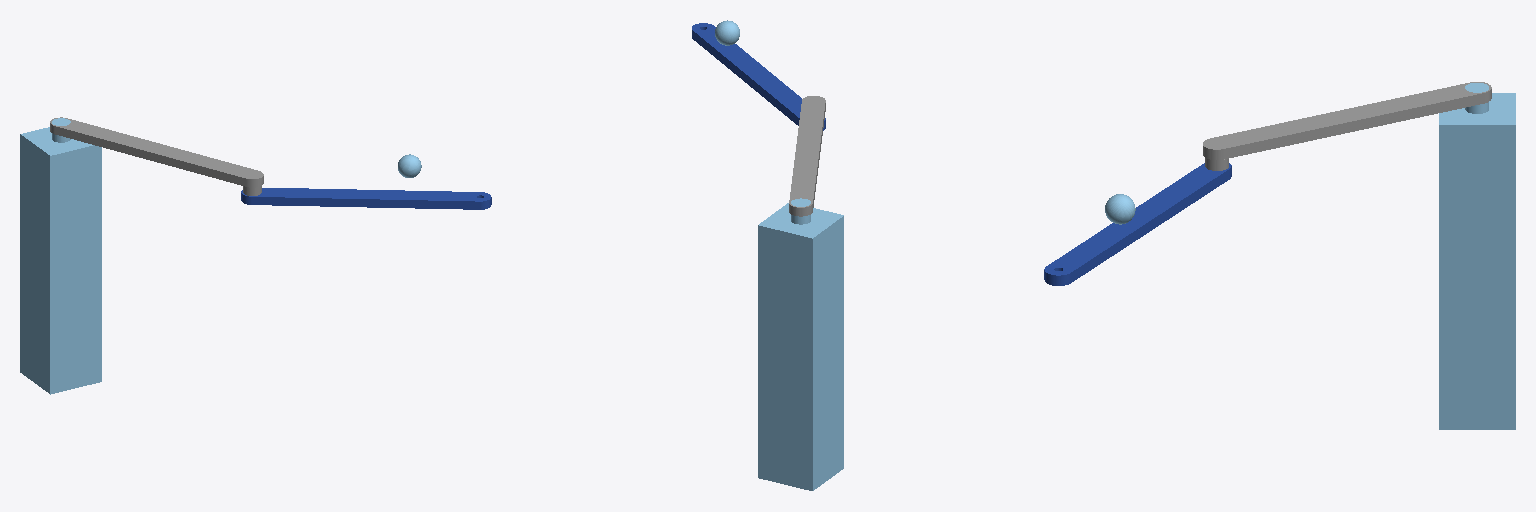
robot.urdf — cup_manipulator:
<?xml version="1.0" ?>
<!-- Generated using onshape-to-robot -->
<!-- Onshape https://cad.onshape.com/documents/02830e503a1c2626d58e0780/w/62db7934caa01effe231f1a9/e/403997dc9b8865e58fc05acd -->
<robot name="cup_manipulator">
  <!-- Link base_mount_manipulator -->
  <link name="base_mount_manipulator">
    <inertial>
      <origin xyz="-1.28866e-19 -3.07959e-17 0.553261" rpy="0 0 0"/>
      <mass value="542.696"/>
      <inertia ixx="58.2669" ixy="-1.00642e-16" ixz="4.30399e-16" iyy="58.2669" iyz="2.04245e-15" izz="5.62415"/>
    </inertial>
    <!-- Part base_mount_manipulator -->
    <visual>
      <origin xyz="0 -5.55112e-17 0" rpy="0 -0 0"/>
      <geometry>
        <mesh filename="package://assets/base_mount_manipulator.stl"/>
      </geometry>
      <material name="base_mount_manipulator_material">
        <color rgba="0.615686 0.811765 0.929412 1"/>
      </material>
    </visual>
    <collision>
      <origin xyz="0 -5.55112e-17 0" rpy="0 -0 0"/>
      <geometry>
        <mesh filename="package://assets/base_mount_manipulator.stl"/>
      </geometry>
    </collision>
  </link>
  <!-- Link link1 -->
  <link name="link1">
    <inertial>
      <origin xyz="-0.549225 -3.5583e-17 -0.0251674" rpy="0 0 0"/>
      <mass value="10.8153"/>
      <inertia ixx="0.0128988" ixy="5.51803e-17" ixz="-0.0266598" iyy="0.981141" iyz="-1.47991e-18" izz="0.983505"/>
    </inertial>
    <!-- Part link1 -->
    <visual>
      <origin xyz="6.16298e-33 -2.44929e-18 -1.21437" rpy="0 -0 5.55112e-17"/>
      <geometry>
        <mesh filename="package://assets/link1.stl"/>
      </geometry>
      <material name="link1_material">
        <color rgba="0.647059 0.647059 0.647059 1"/>
      </material>
    </visual>
    <collision>
      <origin xyz="6.16298e-33 -2.44929e-18 -1.21437" rpy="0 -0 5.55112e-17"/>
      <geometry>
        <mesh filename="package://assets/link1.stl"/>
      </geometry>
    </collision>
  </link>
  <!-- Link link2 -->
  <link name="link2">
    <inertial>
      <origin xyz="-0.499172 -1.4477e-16 -0.0190625" rpy="0 0 0"/>
      <mass value="9.62243"/>
      <inertia ixx="0.00834558" ixy="-4.16147e-17" ixz="0" iyy="0.75801" iyz="0" izz="0.764024"/>
    </inertial>
    <!-- Part link2 -->
    <visual>
      <origin xyz="0.953 -5.55112e-17 1.05812" rpy="3.14159 -0 5.55112e-17"/>
      <geometry>
        <mesh filename="package://assets/link2.stl"/>
      </geometry>
      <material name="link2_material">
        <color rgba="0.231373 0.380392 0.705882 1"/>
      </material>
    </visual>
    <collision>
      <origin xyz="0.953 -5.55112e-17 1.05812" rpy="3.14159 -0 5.55112e-17"/>
      <geometry>
        <mesh filename="package://assets/link2.stl"/>
      </geometry>
    </collision>
  </link>
  <!-- Link part_1 -->
  <link name="part_1">
    <inertial>
      <origin xyz="0 0 0" rpy="0 0 0"/>
      <mass value="1e-09"/>
      <inertia ixx="1e-09" ixy="0" ixz="0" iyy="1e-09" iyz="0" izz="1e-09"/>
    </inertial>
    <!-- Part part_1 -->
    <visual>
      <origin xyz="-0.3015 -8.32667e-17 -0.15" rpy="3.14159 -0 0"/>
      <geometry>
        <mesh filename="package://assets/part_1.stl"/>
      </geometry>
      <material name="part_1_material">
        <color rgba="0.615686 0.811765 0.929412 1"/>
      </material>
    </visual>
    <collision>
      <origin xyz="-0.3015 -8.32667e-17 -0.15" rpy="3.14159 -0 0"/>
      <geometry>
        <mesh filename="package://assets/part_1.stl"/>
      </geometry>
    </collision>
  </link>
  <!-- Joint from link2 to part_1 -->
  <joint name="cup_ee" type="revolute">
    <origin xyz="-0.953 -2.22045e-16 0" rpy="0 -0 -2.98756"/>
    <parent link="link2"/>
    <child link="part_1"/>
    <axis xyz="0 0 1"/>
    <limit effort="10" velocity="10" lower="-3.141592653589793" upper="3.141592653589793"/>
  </joint>
  <!-- Joint from link1 to link2 -->
  <joint name="link2_link1" type="revolute">
    <origin xyz="-0.953 -5.07838e-17 -0.118125" rpy="3.14159 -0 0.526654"/>
    <parent link="link1"/>
    <child link="link2"/>
    <axis xyz="0 0 1"/>
    <limit effort="10" velocity="10" lower="-3.141592653589793" upper="3.141592653589793"/>
  </joint>
  <!-- Joint from base_mount_manipulator to link1 -->
  <joint name="link1_mount" type="revolute">
    <origin xyz="-6.45044e-17 1.47663e-17 1.17625" rpy="0 -0 2.04171"/>
    <parent link="base_mount_manipulator"/>
    <child link="link1"/>
    <axis xyz="0 0 1"/>
    <limit effort="10" velocity="10" lower="-3.141592653589793" upper="3.141592653589793"/>
  </joint>
</robot>

--- What the picture shows (computed from the rendered views, not written in the file) ---
Views: 3 orthographic renders of the robot side by side, from view 1: azimuth 30°, elevation 25°; view 2: azimuth 150°, elevation 25°; view 3: azimuth 270°, elevation 25°.
Model cup_manipulator with 4 links and 3 joints (3 revolute), rooted at base_mount_manipulator, posed every joint at zero.
Links seen in each view (by area): view 1: base_mount_manipulator, link2, link1; view 2: base_mount_manipulator, link2, link1; view 3: base_mount_manipulator, link1, link2, part_1.
Boxes of the visible links, x1=… form: base_mount_manipulator: x1=20, y1=118, x2=101, y2=394; link2: x1=241, y1=188, x2=491, y2=209; link1: x1=50, y1=117, x2=263, y2=195; base_mount_manipulator: x1=758, y1=198, x2=843, y2=490; link2: x1=692, y1=23, x2=825, y2=130; link1: x1=789, y1=96, x2=825, y2=216; base_mount_manipulator: x1=1439, y1=83, x2=1515, y2=429; link1: x1=1203, y1=82, x2=1491, y2=170; link2: x1=1044, y1=163, x2=1231, y2=285; part_1: x1=1105, y1=194, x2=1135, y2=224.
Bounding box of the posed robot: 1.41 × 1.54 × 1.26 m (x, y, z).
4 mesh visuals loaded from 4 distinct referenced files (4 binary STL).
